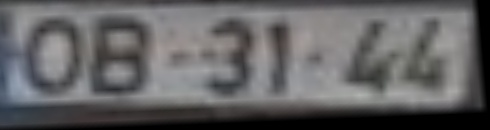1: (265, 19, 296, 101)
3: (208, 14, 262, 104)
4: (345, 18, 402, 98), (406, 16, 455, 96)
B: (87, 14, 160, 102)
O: (20, 14, 91, 103)
